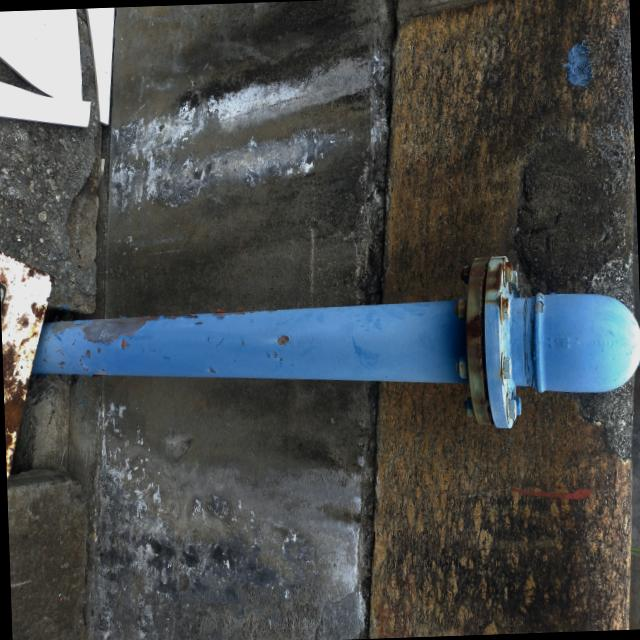gas: (30, 290, 640, 403)
